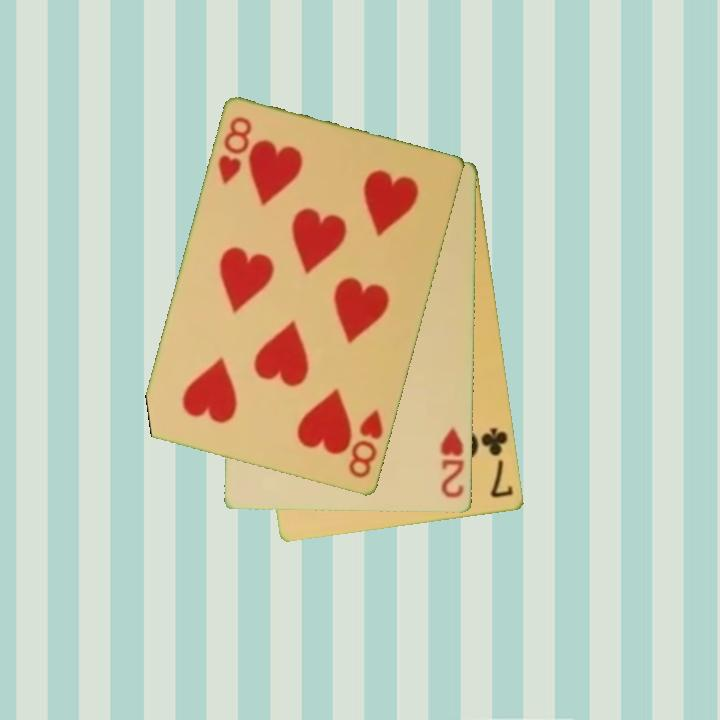2h: (437, 424, 467, 502)
7c: (478, 424, 517, 501)
8h: (345, 407, 386, 482), (215, 113, 255, 188)
